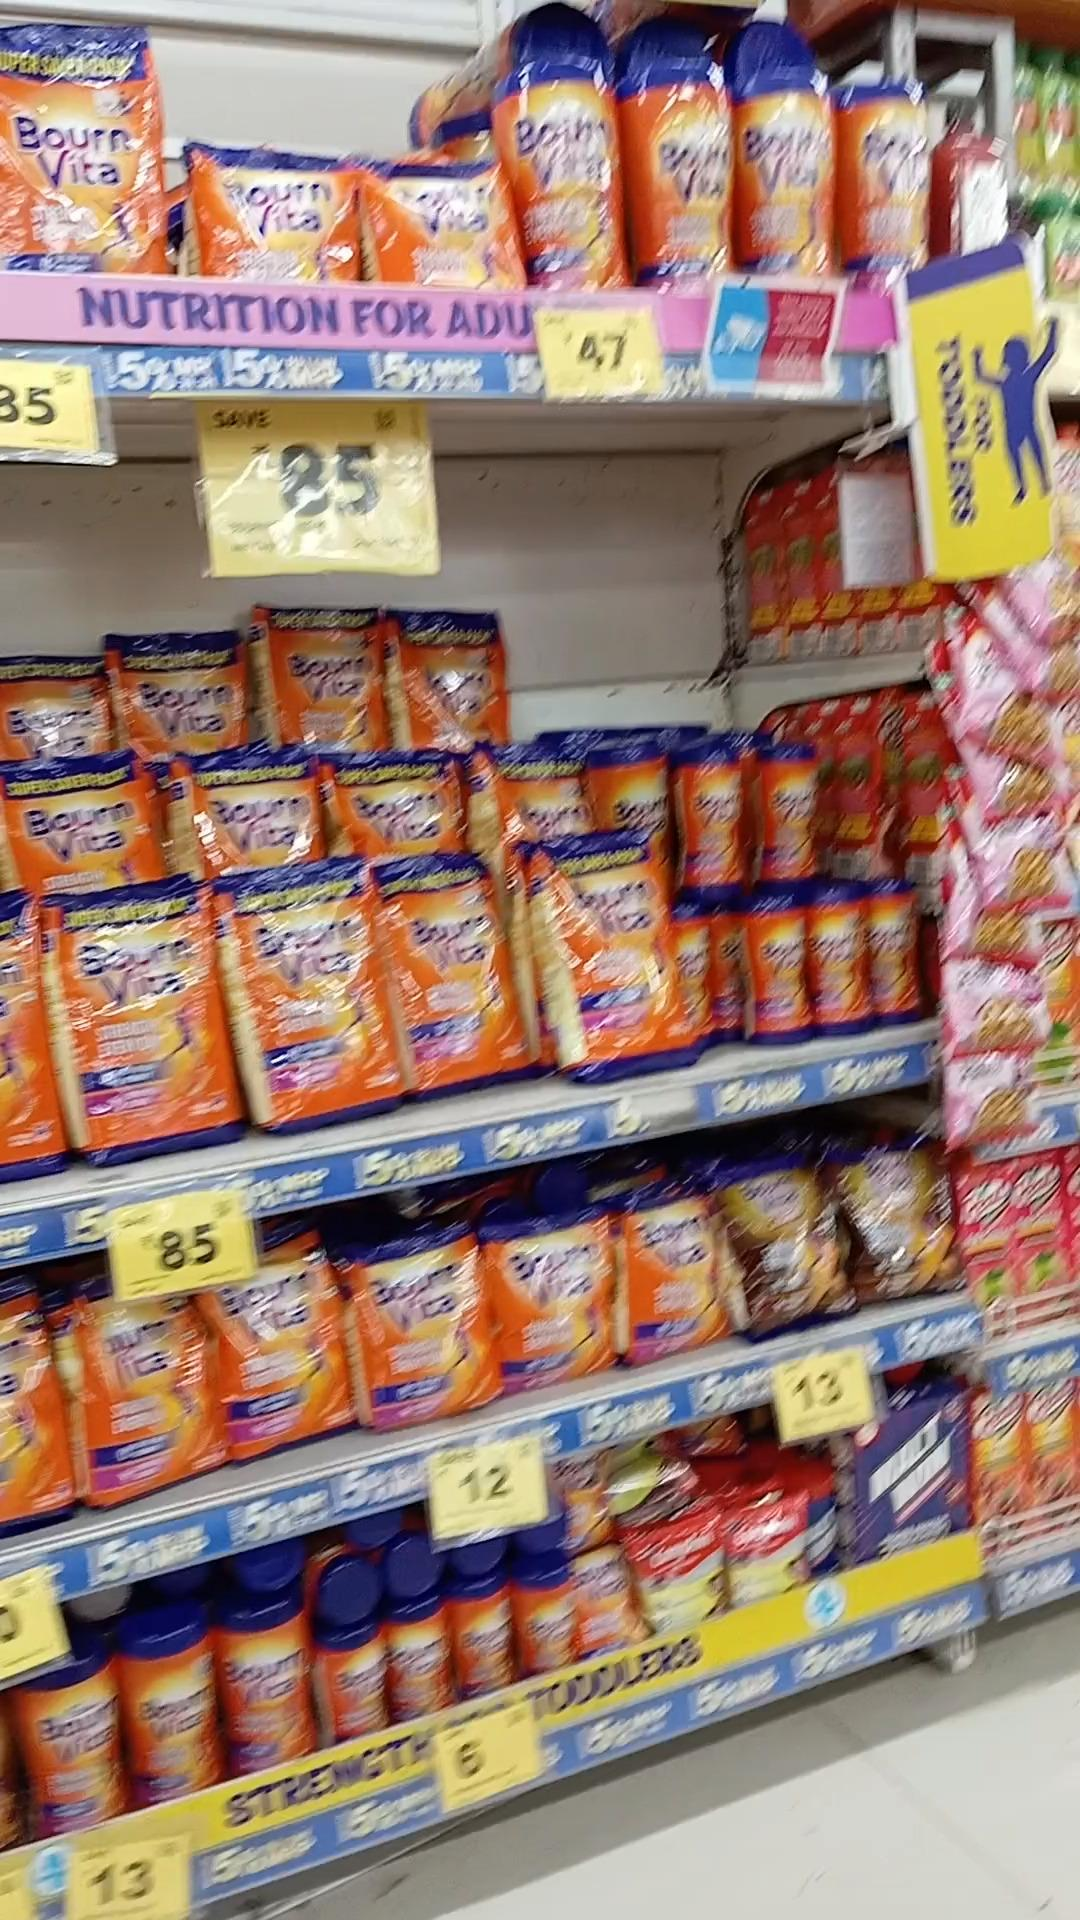BOURN_VITA_1_KG_JAR: (518, 55, 617, 287), (626, 63, 731, 272), (740, 69, 832, 274), (839, 80, 930, 262)
BOURN_VITA_1_KG_POUCH: (46, 877, 216, 1160), (0, 24, 166, 274), (237, 870, 386, 1124), (543, 831, 667, 1075), (393, 857, 512, 1088), (265, 605, 381, 754), (388, 607, 506, 742), (120, 629, 248, 745), (679, 746, 738, 905)
BOURN_VITA_200_G_JAR: (320, 1626, 382, 1741), (514, 1567, 572, 1679), (389, 1601, 444, 1717), (452, 1584, 509, 1687)
BOURN_VITA_500_G_JAR: (120, 1626, 224, 1791), (12, 1672, 113, 1818), (227, 1601, 311, 1760), (744, 889, 808, 1038), (764, 742, 816, 885), (815, 884, 862, 1031)
BOURN_VITA_500_G_POUCH: (352, 1242, 491, 1408), (191, 146, 357, 284), (365, 158, 510, 293), (496, 1230, 612, 1378), (622, 1201, 719, 1349)
BOURN_VITA_750_G_POUCH: (71, 1303, 208, 1481), (215, 1282, 343, 1436)
BOURN_VITA_FIVE_STAR_MAGIC_500_G_POUCH: (728, 1180, 847, 1323), (855, 1155, 956, 1303)
